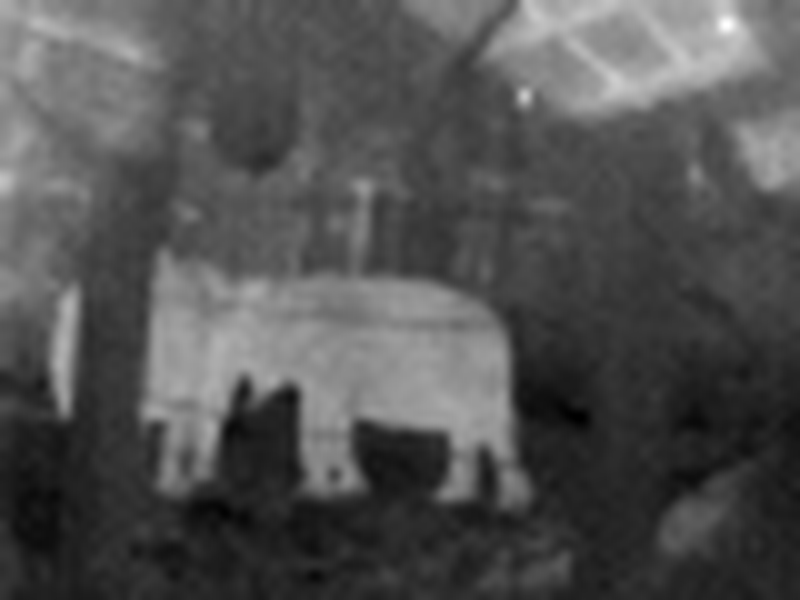elephant: (32, 260, 573, 517)
